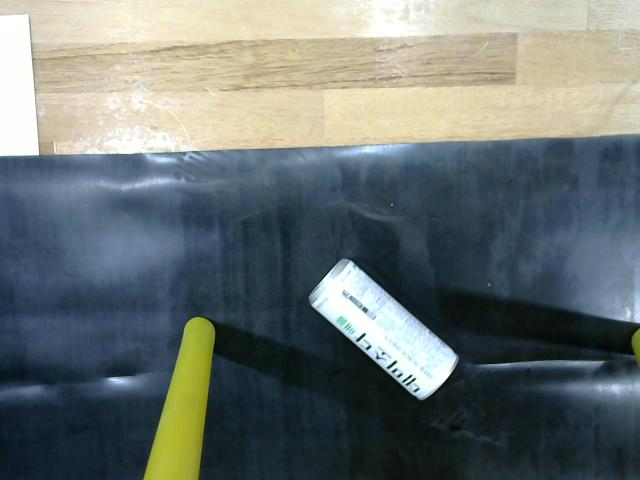can: (302, 245, 479, 422)
